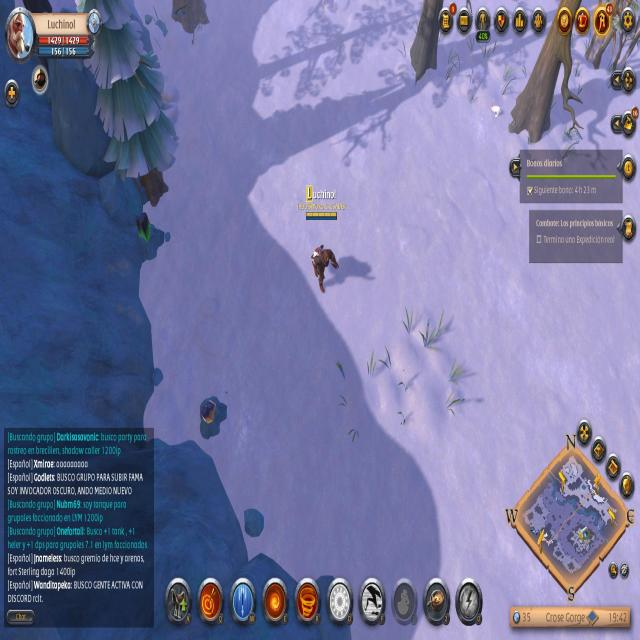piedra_cobre: (199, 396, 228, 440)
